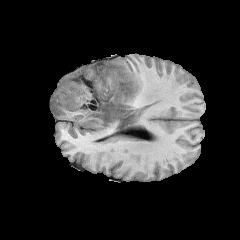glioma: (51, 59, 143, 139)
